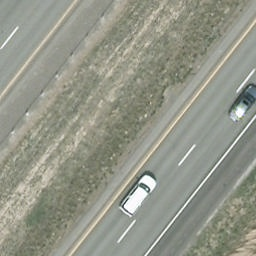car: (117, 171, 159, 221)
